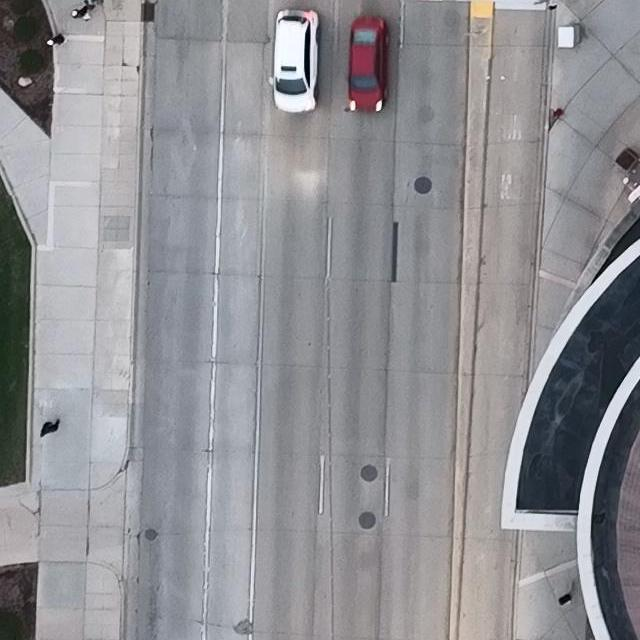car: (269, 9, 320, 113), (346, 15, 389, 113)
